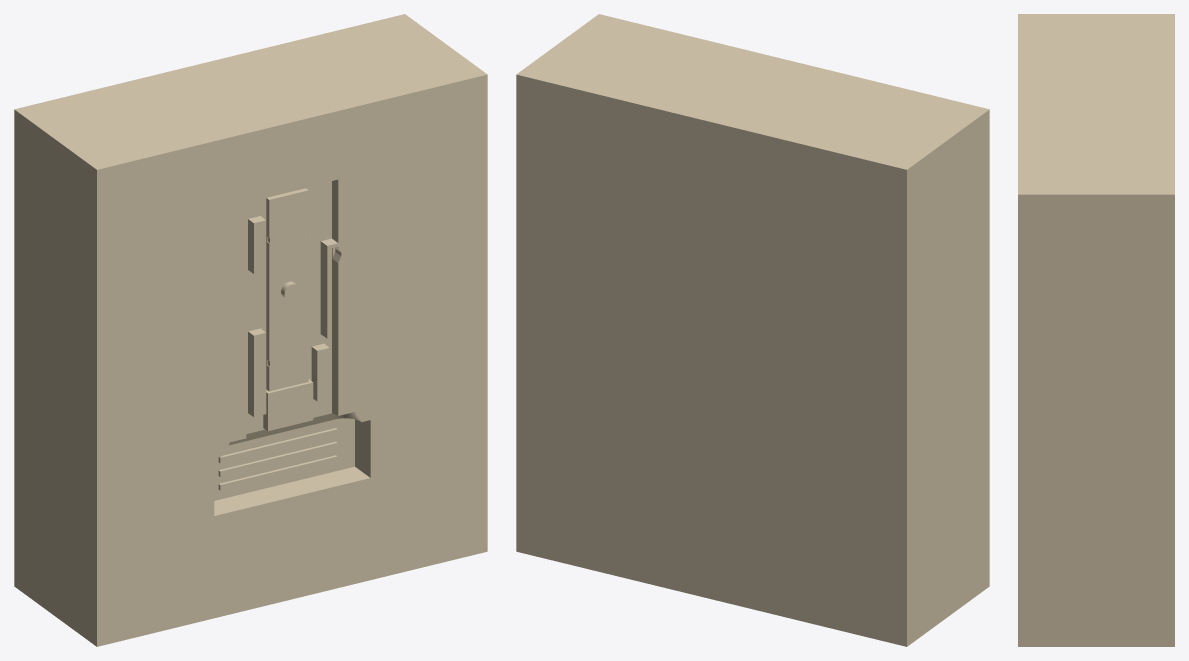
Rendered from .HemoSure_Strip_Tray_CAVITY.step.glb.
3 views of the same model, side by side, from view 1: azimuth 30°, elevation 25°; view 2: azimuth 150°, elevation 25°; view 3: azimuth 270°, elevation 25° (orthographic). The views are drawn at different scales.
Visible parts, largest first — view 1: o1; view 2: o1; view 3: o1.
Boxes of the visible parts, <box> form: o1: <box>14,14,487,646</box>; o1: <box>516,14,989,646</box>; o1: <box>1018,14,1174,646</box>.
Bounding box in the file's own units: 0.0603 × 0.0703 × 0.0221.
